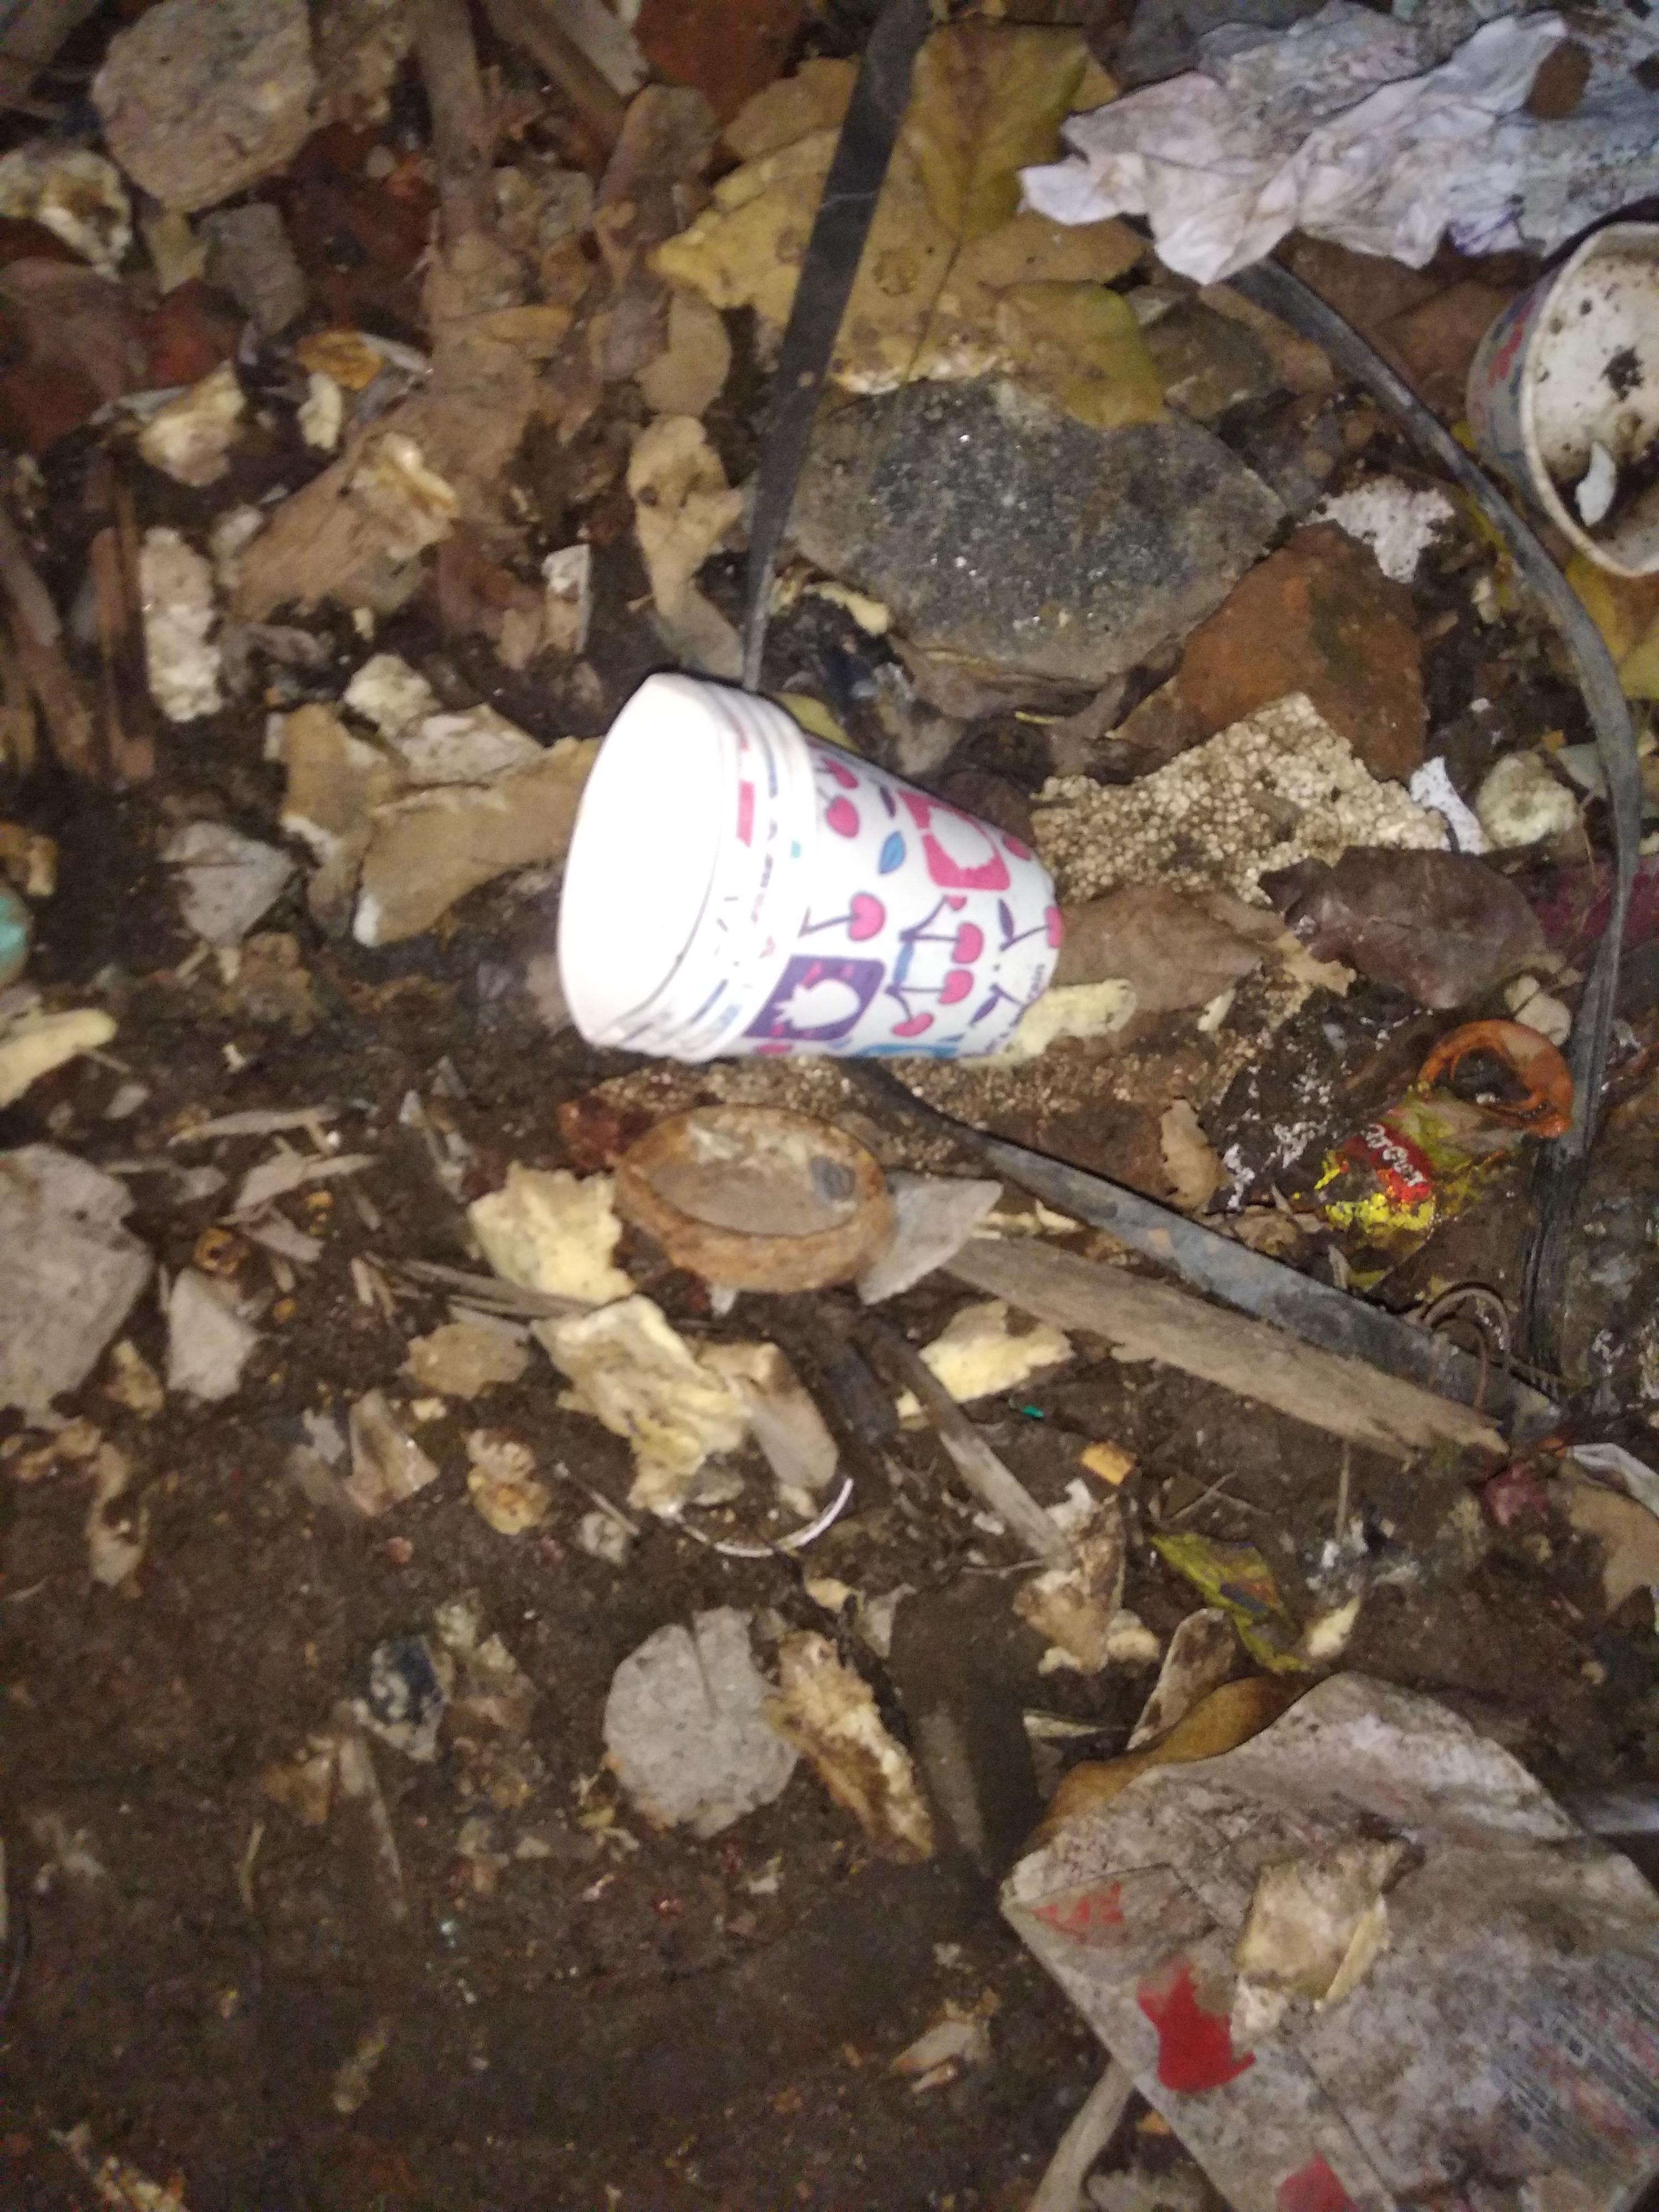trash: (540, 21, 1659, 2212)
